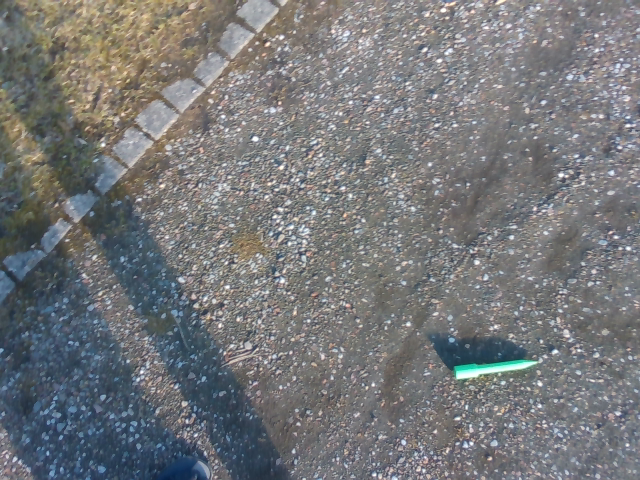Probe: (451, 352, 547, 386)
